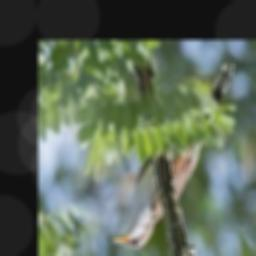Cuckoo: (110, 60, 233, 248)
